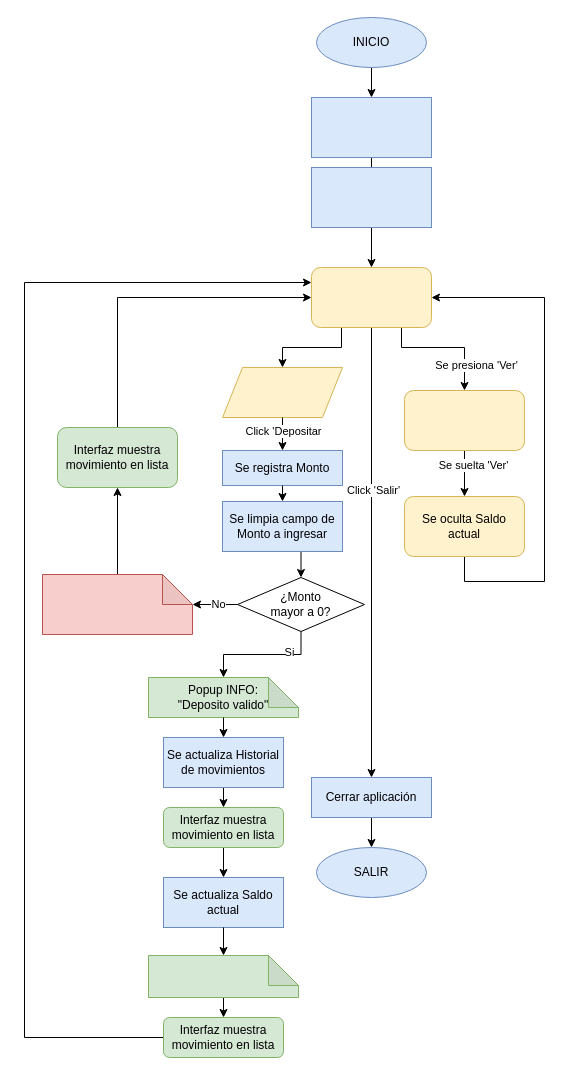
This 570x1075 diagram has some shape labels left out. The shapes that lost their labels are listed below. From the top down, each one's centre as x and y in pixels, then its label:
point 371,127: Inicialización de aplicación
point 371,197: Seteo inicial de atributos y widgets
point 371,297: UI espera eventos
point 282,392: Usuario ingresa Monto
point 464,420: Se muestra Saldo actual
point 117,604: Popup ERROR: "Deposito no valido"
point 223,976: Popup INFO: "Se actualiza saldo"
